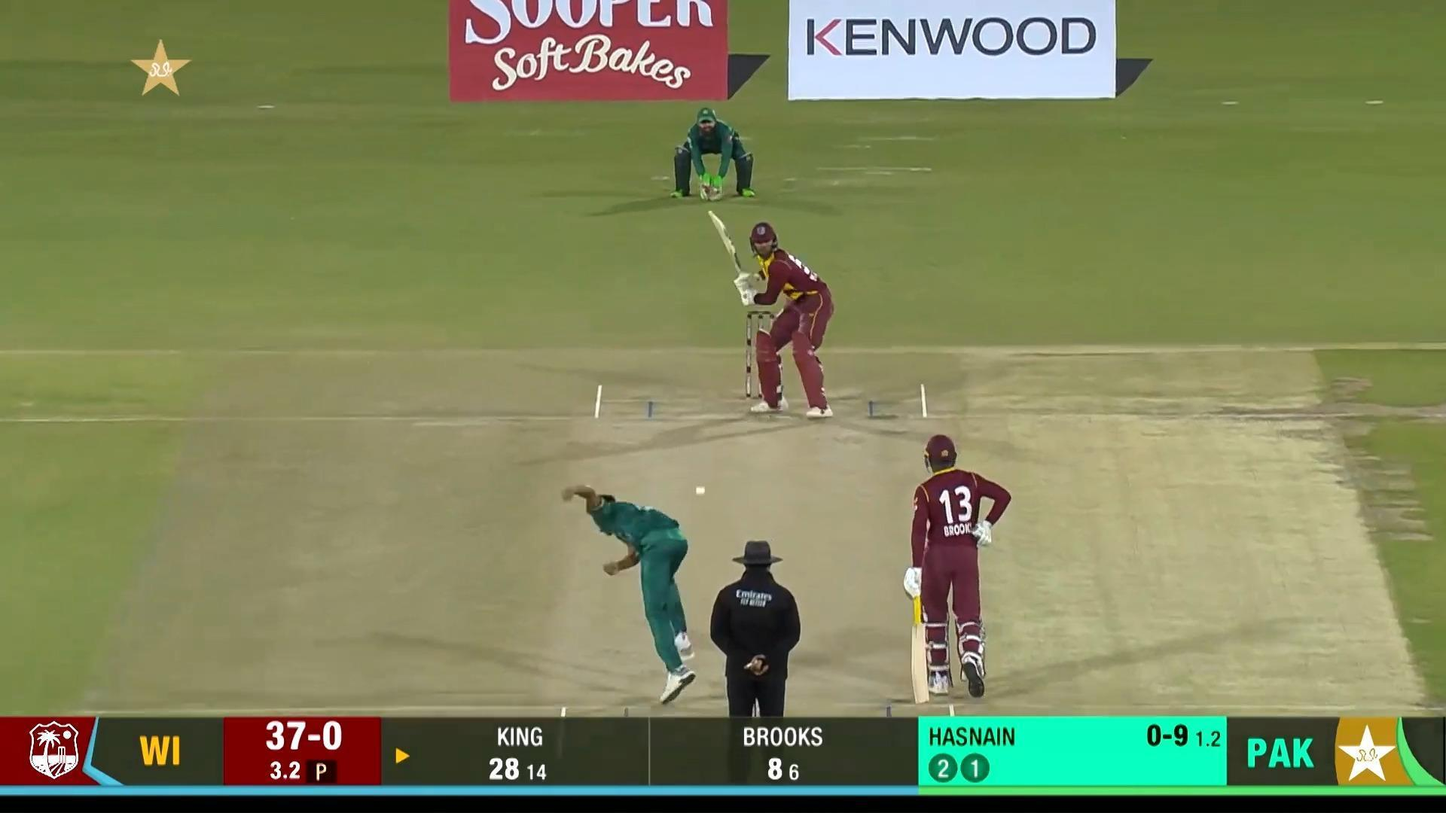BM 1: (706, 208, 835, 421)
BO: (560, 481, 699, 704)
